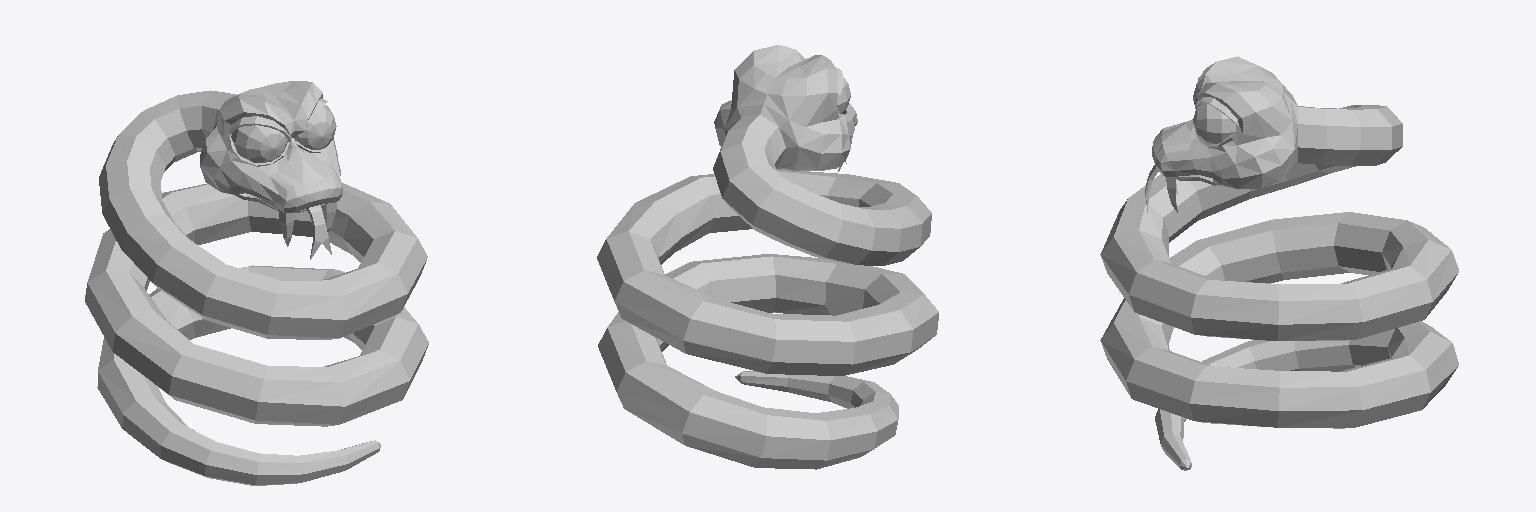
The model's file is coily.obj.
3 views of the same model, side by side, from view 1: azimuth 30°, elevation 25°; view 2: azimuth 150°, elevation 25°; view 3: azimuth 270°, elevation 25° (orthographic).
Parts seen in each view (by area): view 1: coily; view 2: coily; view 3: coily.
Part boxes in pixels (x1,y1,x2,y2): coily: (85,81,428,485); coily: (597,45,938,469); coily: (1100,56,1458,470).
Bounding box in the file's own units: 48.6 × 59.43 × 52.79.